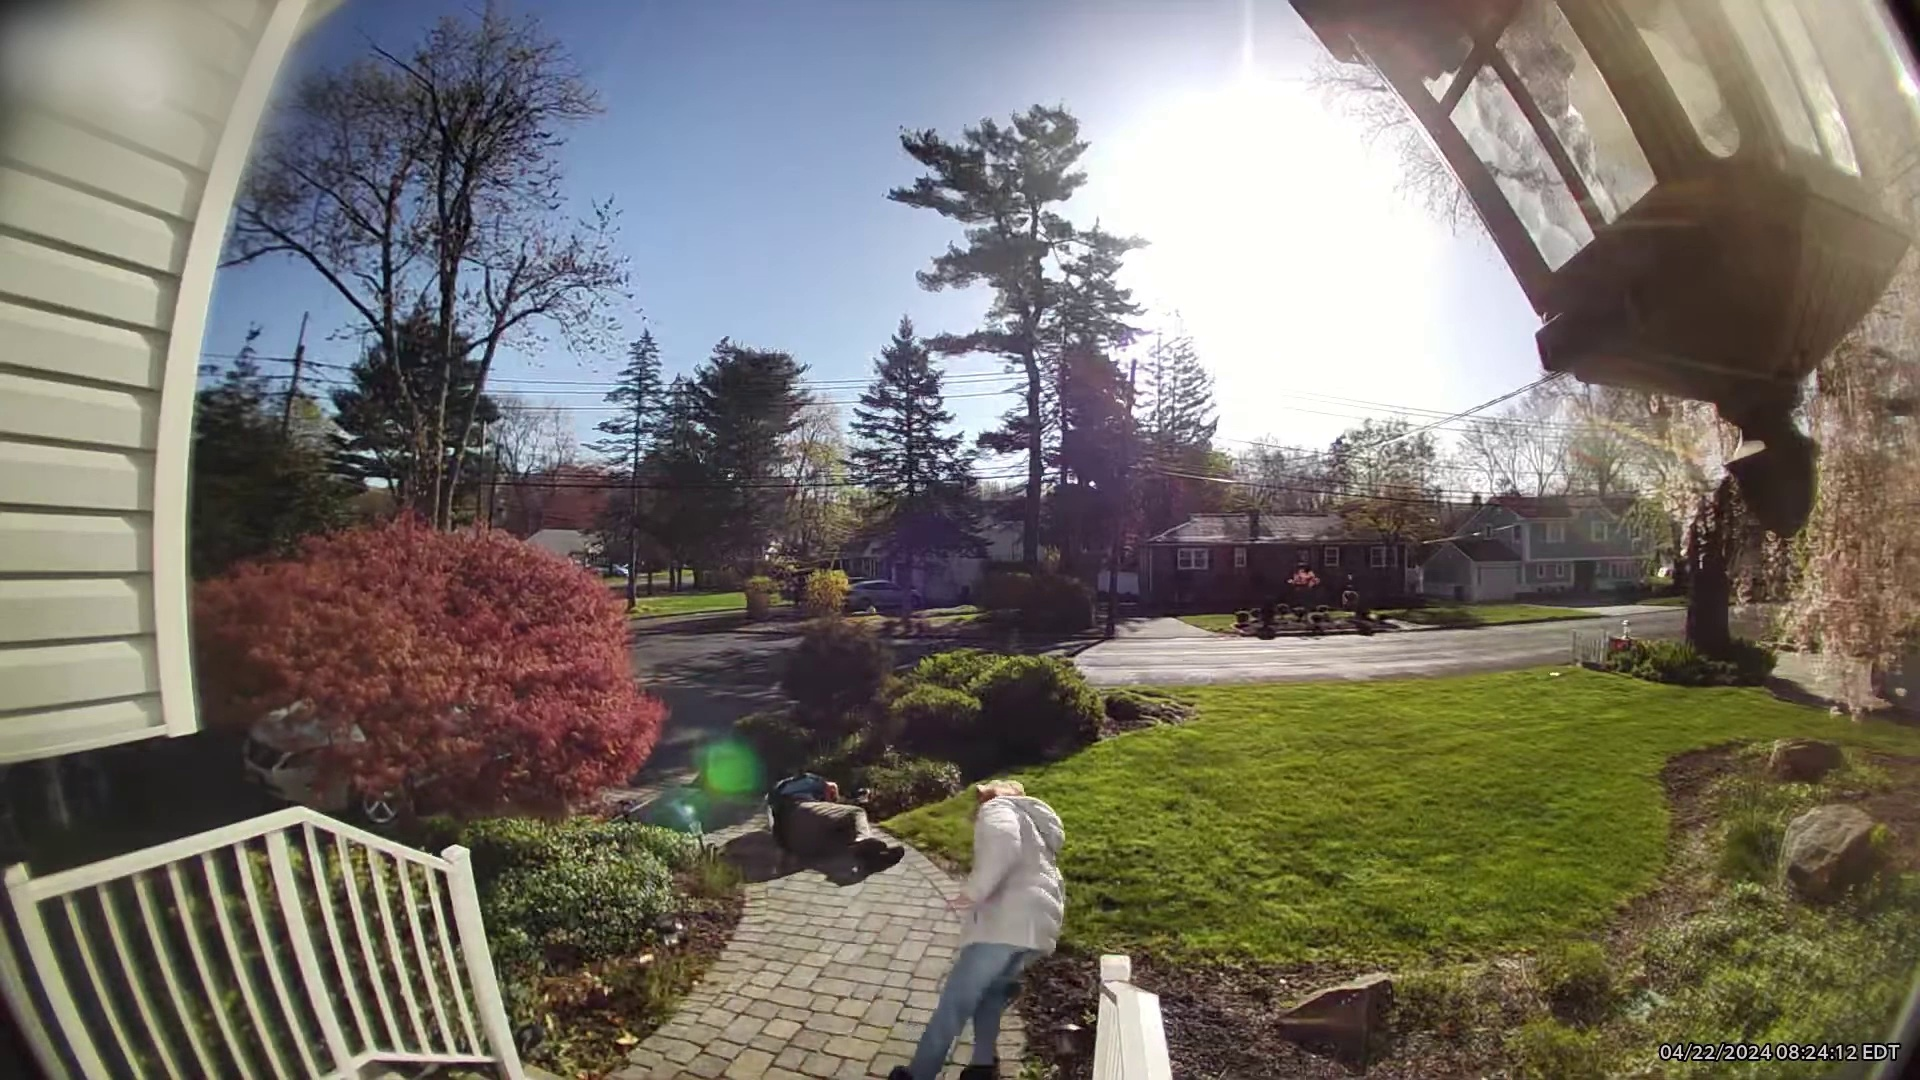fall: (638, 698, 935, 944)
